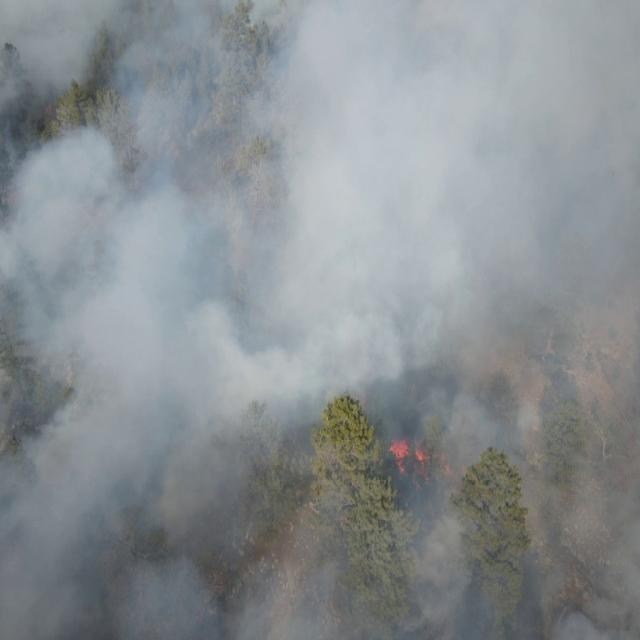fire: (388, 435, 408, 475), (413, 445, 433, 477), (42, 96, 58, 119), (438, 452, 451, 478)
smoke: (0, 0, 640, 640)
